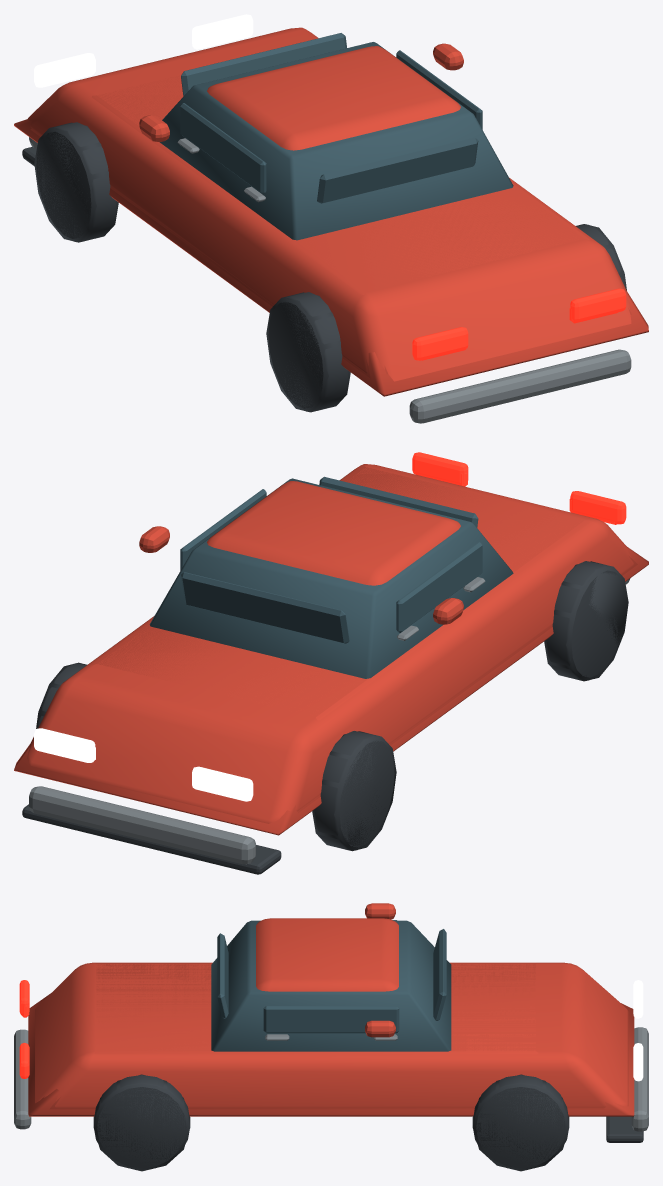
Rendered from sport_coupe.glb.
3 views of the same model, one above another, from view 1: azimuth 30°, elevation 25°; view 2: azimuth 150°, elevation 25°; view 3: azimuth 270°, elevation 25° (orthographic). The views are drawn at different scales.
Parts seen in each view (by area): view 1: LOD0_sport_coupe_LowerBody, LOD2_sport_coupe_Upper, LOD1_sport_coupe_Body, LOD0_sport_coupe_Cabin, LOD0_sport_coupe_Wheel_FL, LOD0_sport_coupe_Wheel_RL, LOD2_sport_coupe_Body, LOD0_sport_coupe_RearBumper, LOD0_sport_coupe_RearGlass, LOD1_sport_coupe_Wheel_FL, LOD0_sport_coupe_SideGlass_L, LOD0_sport_coupe_Windshield (+8 smaller); view 2: LOD0_sport_coupe_LowerBody, LOD2_sport_coupe_Upper, LOD0_sport_coupe_Cabin, LOD1_sport_coupe_Body, LOD0_sport_coupe_FrontBumper, LOD0_sport_coupe_Wheel_FL, LOD0_sport_coupe_Windshield, LOD0_sport_coupe_Wheel_RL, LOD2_sport_coupe_Body, LOD1_sport_coupe_Wheel_RL, LOD0_sport_coupe_SideGlass_L, LOD1_sport_coupe_Wheel_FL (+9 smaller); view 3: LOD0_sport_coupe_LowerBody, LOD2_sport_coupe_Upper, LOD1_sport_coupe_Body, LOD0_sport_coupe_Cabin, LOD0_sport_coupe_Wheel_RR, LOD0_sport_coupe_Wheel_FR, LOD2_sport_coupe_Body, LOD0_sport_coupe_SideGlass_R, LOD1_sport_coupe_Wheel_FR, LOD1_sport_coupe_Wheel_RR, LOD0_sport_coupe_FrontBumper, LOD0_sport_coupe_RearBumper (+6 smaller).
Boxes of the visible parts, x1,y1,x2,y2 form: LOD0_sport_coupe_LowerBody: [28, 27, 631, 381]; LOD2_sport_coupe_Upper: [159, 42, 513, 240]; LOD1_sport_coupe_Body: [30, 75, 631, 378]; LOD0_sport_coupe_Cabin: [207, 46, 460, 150]; LOD0_sport_coupe_Wheel_FL: [36, 122, 116, 240]; LOD0_sport_coupe_Wheel_RL: [268, 292, 348, 411]; LOD2_sport_coupe_Body: [14, 118, 648, 396]; LOD0_sport_coupe_RearBumper: [409, 349, 631, 423]; LOD0_sport_coupe_RearGlass: [317, 137, 478, 203]; LOD1_sport_coupe_Wheel_FL: [34, 122, 118, 242]; LOD0_sport_coupe_SideGlass_L: [180, 103, 266, 194]; LOD0_sport_coupe_Windshield: [181, 33, 346, 96]; LOD0_sport_coupe_LowerBody: [27, 464, 633, 823]; LOD2_sport_coupe_Upper: [149, 478, 513, 678]; LOD0_sport_coupe_Cabin: [207, 481, 460, 585]; LOD1_sport_coupe_Body: [92, 466, 637, 812]; LOD0_sport_coupe_FrontBumper: [29, 786, 255, 864]; LOD0_sport_coupe_Wheel_FL: [314, 731, 394, 849]; LOD0_sport_coupe_Windshield: [181, 572, 349, 643]; LOD0_sport_coupe_Wheel_RL: [546, 561, 620, 680]; LOD2_sport_coupe_Body: [14, 545, 648, 835]; LOD1_sport_coupe_Wheel_RL: [544, 561, 628, 681]; LOD0_sport_coupe_SideGlass_L: [396, 541, 482, 632]; LOD1_sport_coupe_Wheel_FL: [312, 731, 396, 851]; LOD0_sport_coupe_LowerBody: [35, 962, 628, 1107]; LOD2_sport_coupe_Upper: [211, 920, 451, 1051]; LOD1_sport_coupe_Body: [40, 962, 604, 1109]; LOD0_sport_coupe_Cabin: [256, 918, 398, 991]; LOD0_sport_coupe_Wheel_RR: [93, 1075, 190, 1168]; LOD0_sport_coupe_Wheel_FR: [472, 1075, 569, 1168]; LOD2_sport_coupe_Body: [28, 994, 634, 1116]; LOD0_sport_coupe_SideGlass_R: [263, 1006, 399, 1033]; LOD1_sport_coupe_Wheel_FR: [472, 1074, 569, 1171]; LOD1_sport_coupe_Wheel_RR: [93, 1074, 190, 1171]; LOD0_sport_coupe_FrontBumper: [631, 1027, 648, 1131]; LOD0_sport_coupe_RearBumper: [14, 1029, 31, 1129].
Size of what is drawn, in the model's own units: 2.19 by 1.33 by 4.73.
